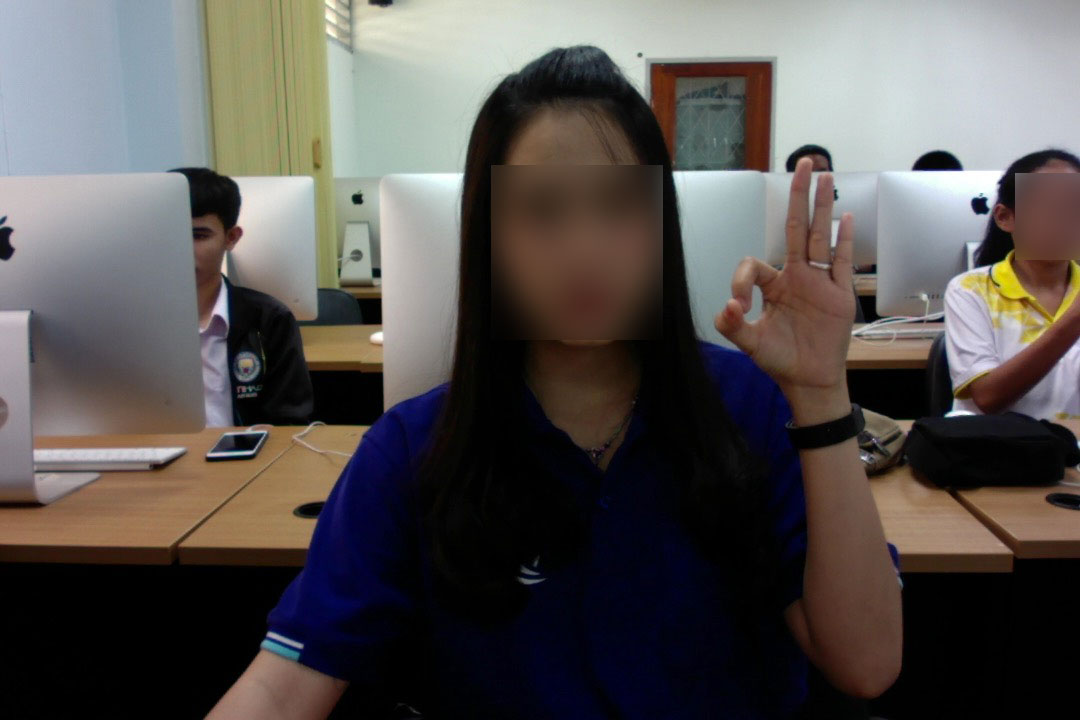for: (682, 146, 898, 434)
